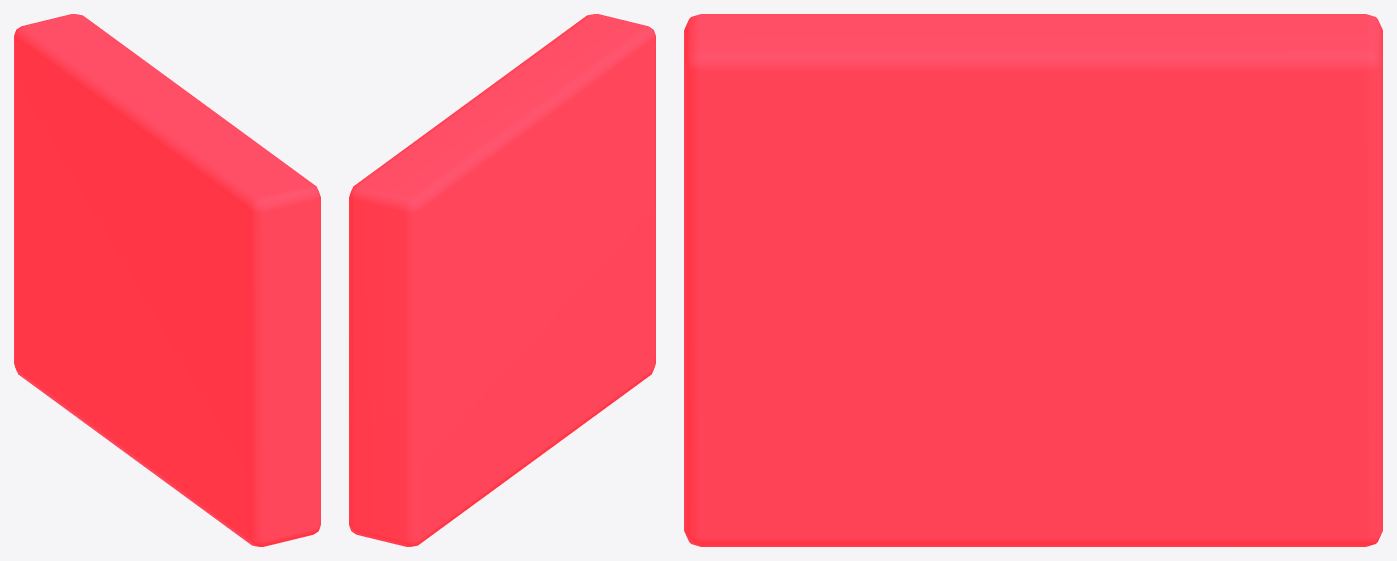
Rendered from light_3d_oled_taillight_fin_l_19.glb.
The picture shows the model from 3 angles, left to right: view 1: azimuth 30°, elevation 25°; view 2: azimuth 150°, elevation 25°; view 3: azimuth 270°, elevation 25°; orthographic projection. The views are drawn at different scales.
Parts seen in each view (by area): view 1: LIGHT_3D_OLED_Taillight_Fin_L_19; view 2: LIGHT_3D_OLED_Taillight_Fin_L_19; view 3: LIGHT_3D_OLED_Taillight_Fin_L_19.
Part boxes in pixels (bbox=[...]): LIGHT_3D_OLED_Taillight_Fin_L_19: bbox=[14, 14, 320, 546]; LIGHT_3D_OLED_Taillight_Fin_L_19: bbox=[349, 14, 655, 546]; LIGHT_3D_OLED_Taillight_Fin_L_19: bbox=[684, 14, 1382, 546].
Bounding box in the file's own units: 0.0206 × 0.0974 × 0.124.
